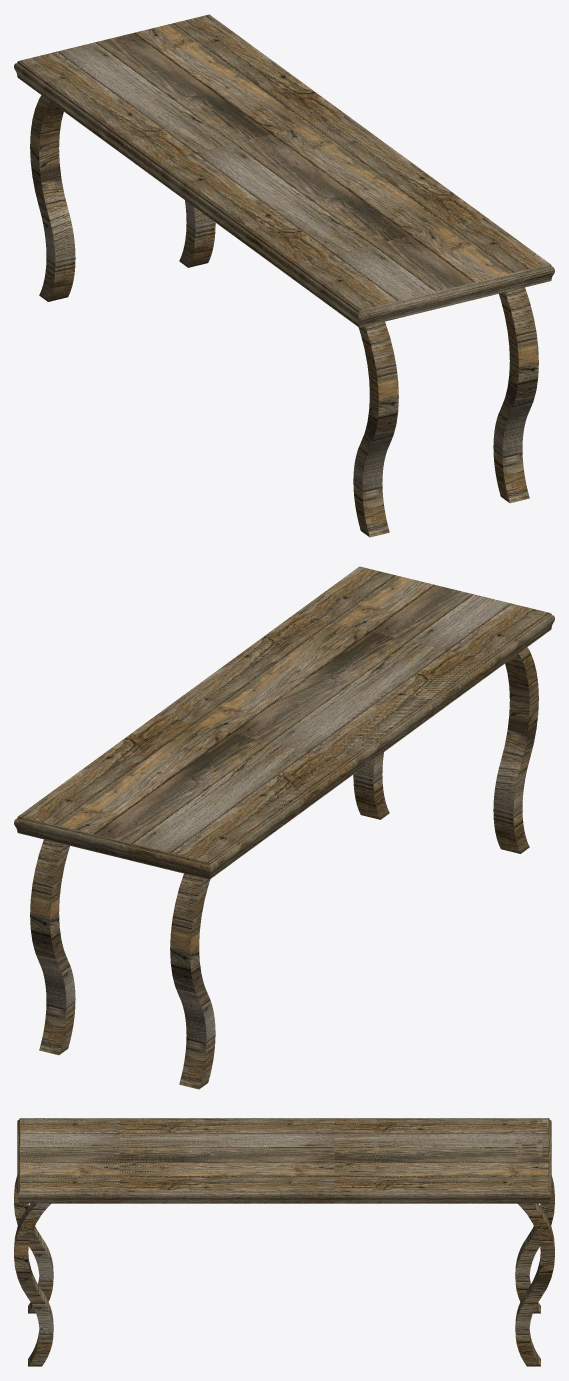
Rendered from diningtable.dae.
The picture shows the model from 3 angles, top to bottom: view 1: azimuth 30°, elevation 25°; view 2: azimuth 150°, elevation 25°; view 3: azimuth 270°, elevation 25°; orthographic projection. The views are drawn at different scales.
Parts seen in each view (by area): view 1: group_0 (×2), group_3, group_4, group_1, group_2; view 2: group_0 (×2), group_1, group_2, group_3, group_4; view 3: group_0 (×2), group_2, group_4, group_1, group_3.
Part boxes in pixels (x1,y1,x2,y2): group_0 (×2): [14, 14, 554, 327]; group_3: [353, 321, 398, 537]; group_4: [493, 287, 538, 503]; group_1: [30, 95, 75, 301]; group_2: [179, 200, 215, 267]; group_0 (×2): [14, 566, 554, 879]; group_1: [170, 873, 215, 1089]; group_2: [30, 839, 75, 1055]; group_3: [493, 647, 538, 853]; group_4: [353, 752, 389, 819]; group_0 (×2): [17, 1118, 551, 1203]; group_2: [515, 1203, 554, 1366]; group_4: [14, 1203, 53, 1366]; group_1: [515, 1175, 554, 1313]; group_3: [14, 1175, 53, 1313].
Bounding box in the file's own units: 49.12 × 151 × 55.99.
5 materials, 4 textured.
